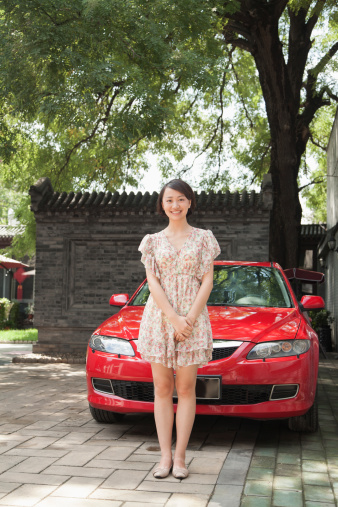em pe: (129, 180, 216, 475)
